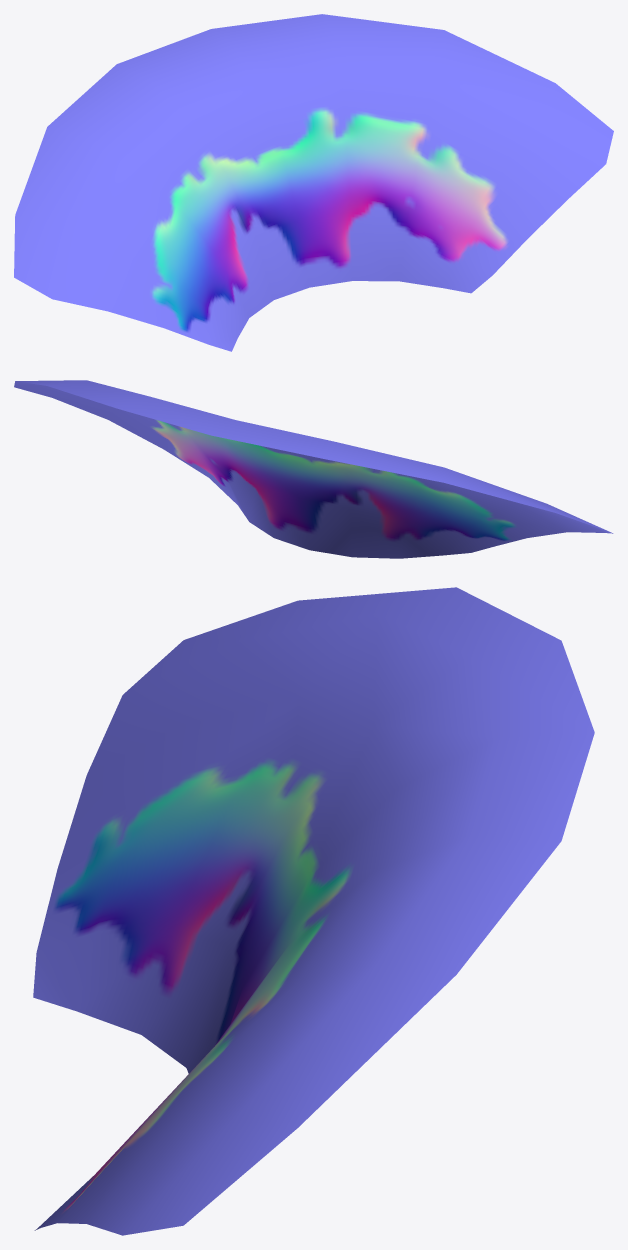
File: p_mesh_trashbot_flowspray_splash02.fbx
3 views of the same model, one above another, from view 1: azimuth 30°, elevation 25°; view 2: azimuth 150°, elevation 25°; view 3: azimuth 270°, elevation 25° (orthographic). The views are drawn at different scales.
Parts seen in each view (by area): view 1: splash02; view 2: splash02; view 3: splash02.
Boxes of the visible parts, box(x1,y1,x2,y2) form: splash02: box(14, 14, 613, 351); splash02: box(14, 380, 613, 558); splash02: box(33, 587, 594, 1235).
Bounding box in the file's own units: 11.74 × 3.57 × 4.76.
